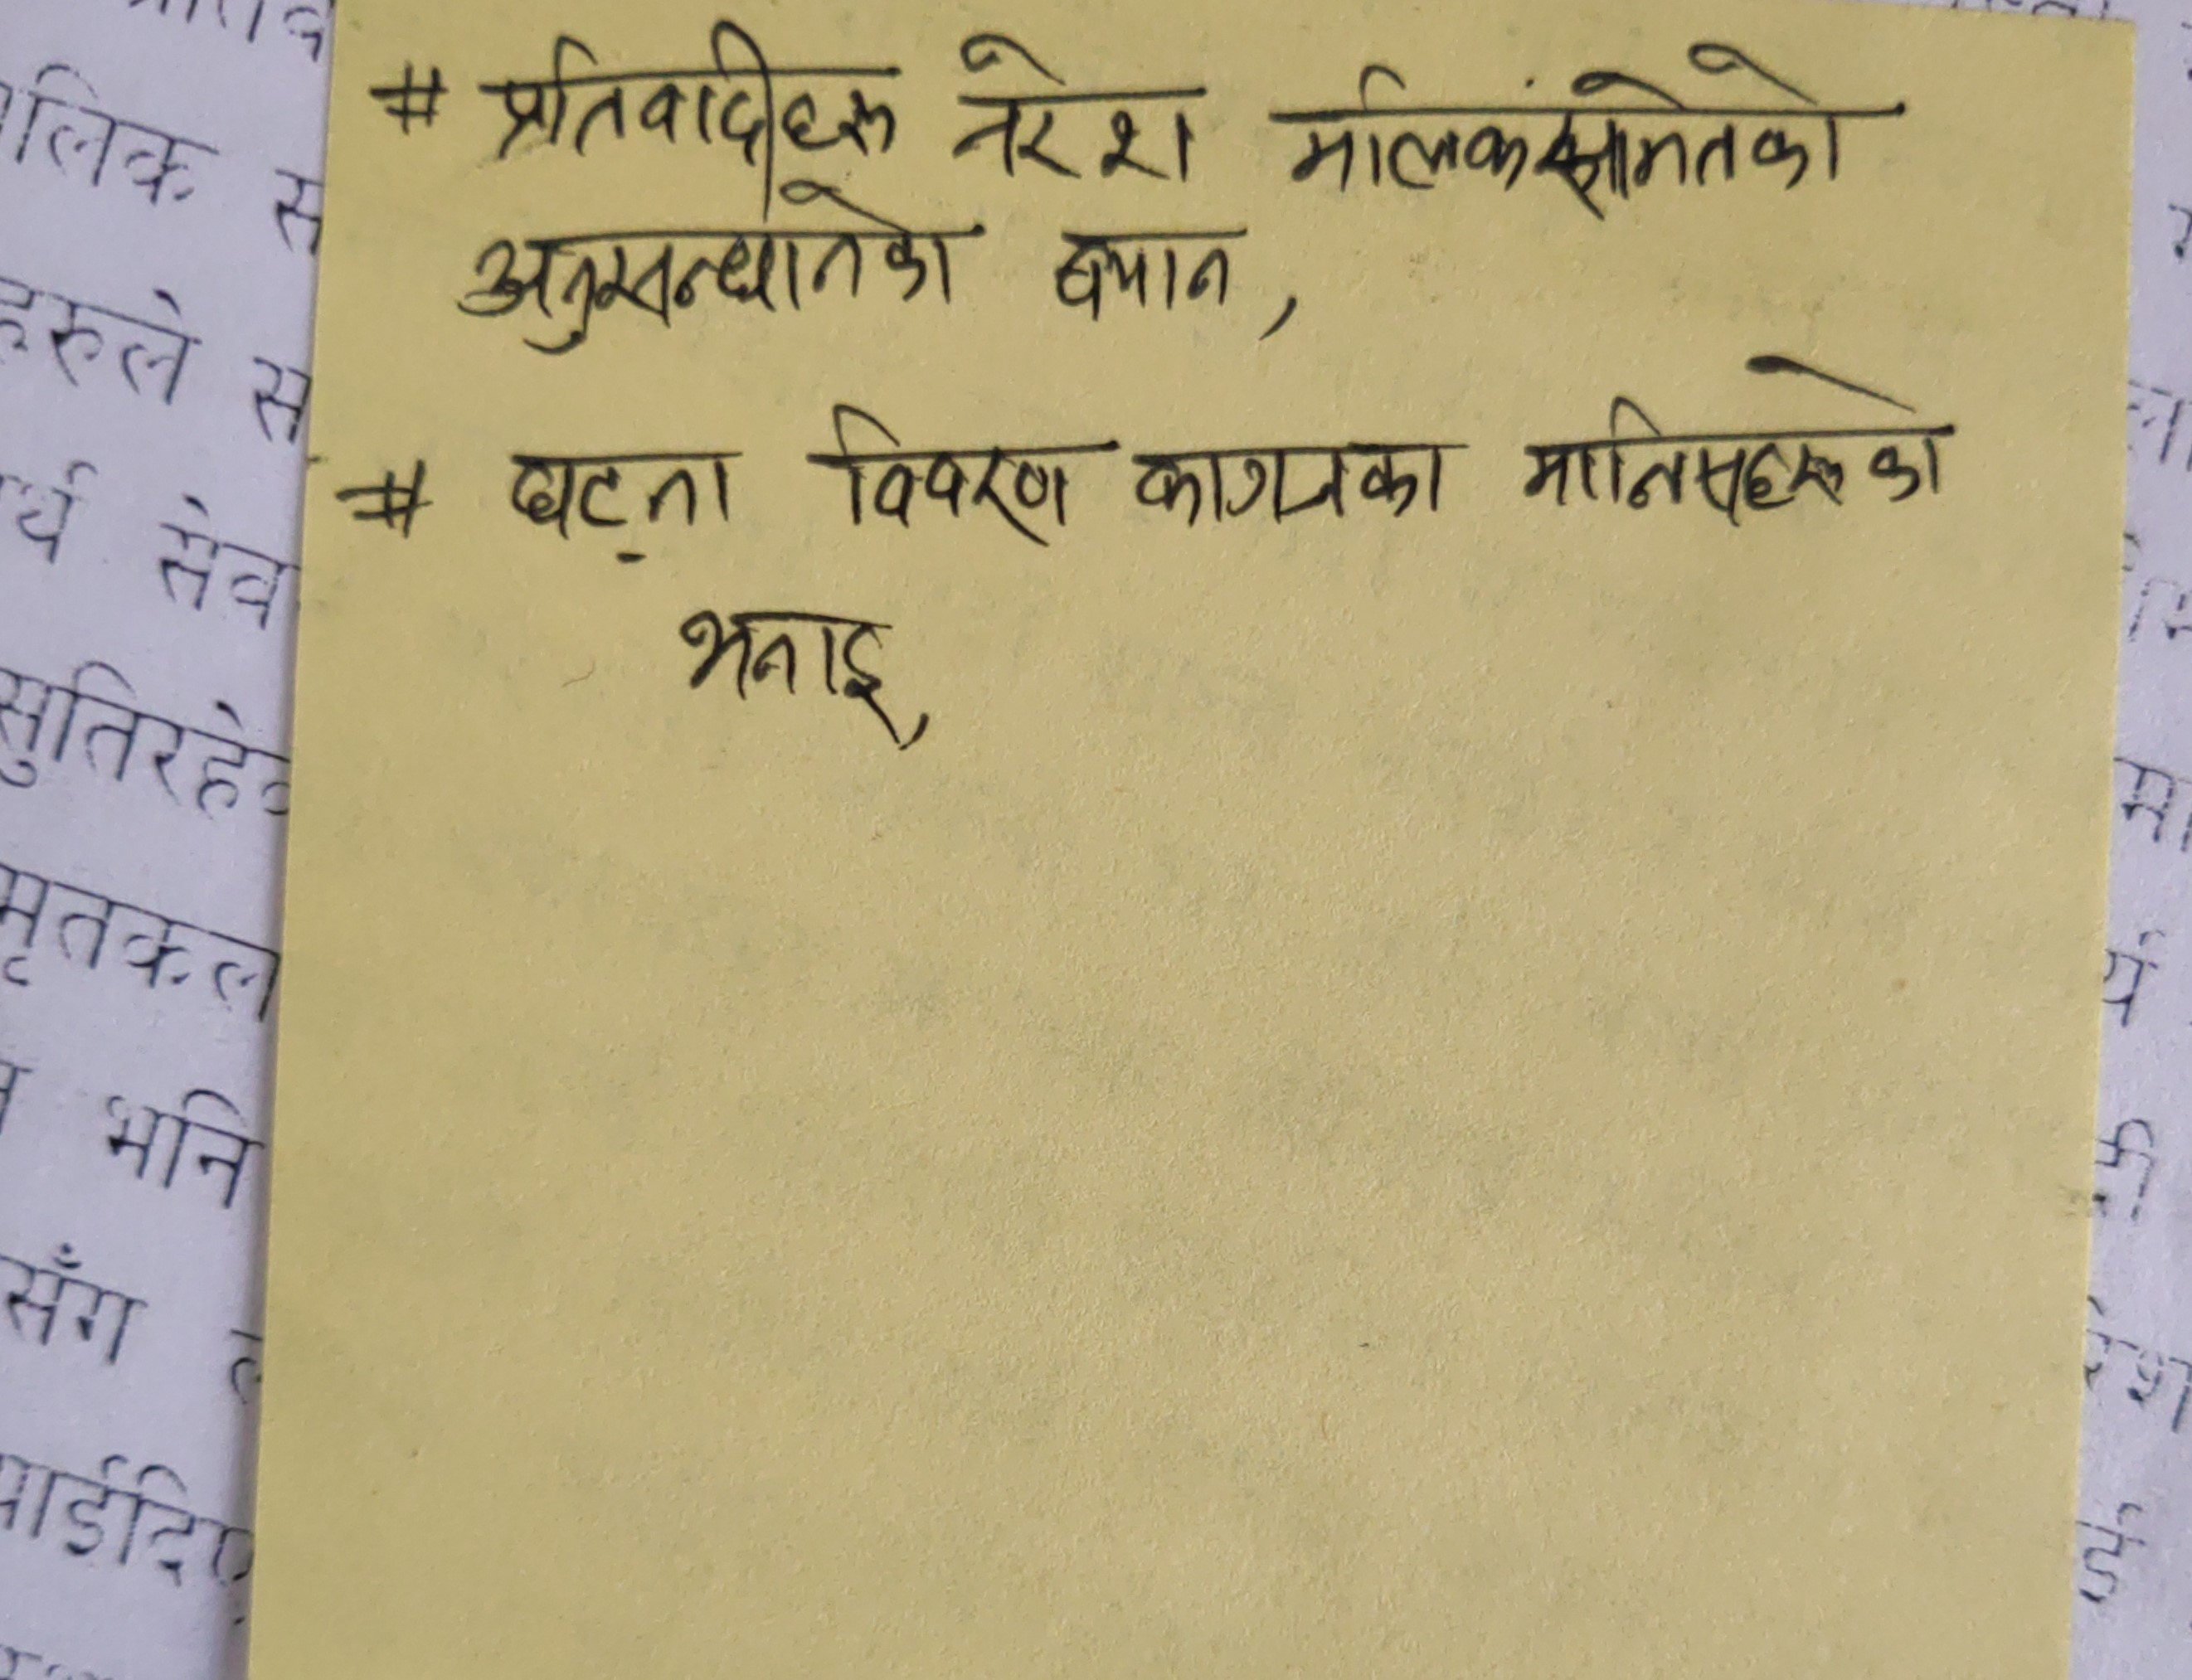text: (1258, 35, 1876, 219), (461, 176, 962, 358), (1516, 348, 1956, 522), (473, 23, 904, 176), (944, 28, 1207, 201), (814, 402, 1082, 556), (671, 602, 902, 750), (1122, 438, 1458, 533), (487, 443, 738, 565), (1052, 222, 1241, 326)
